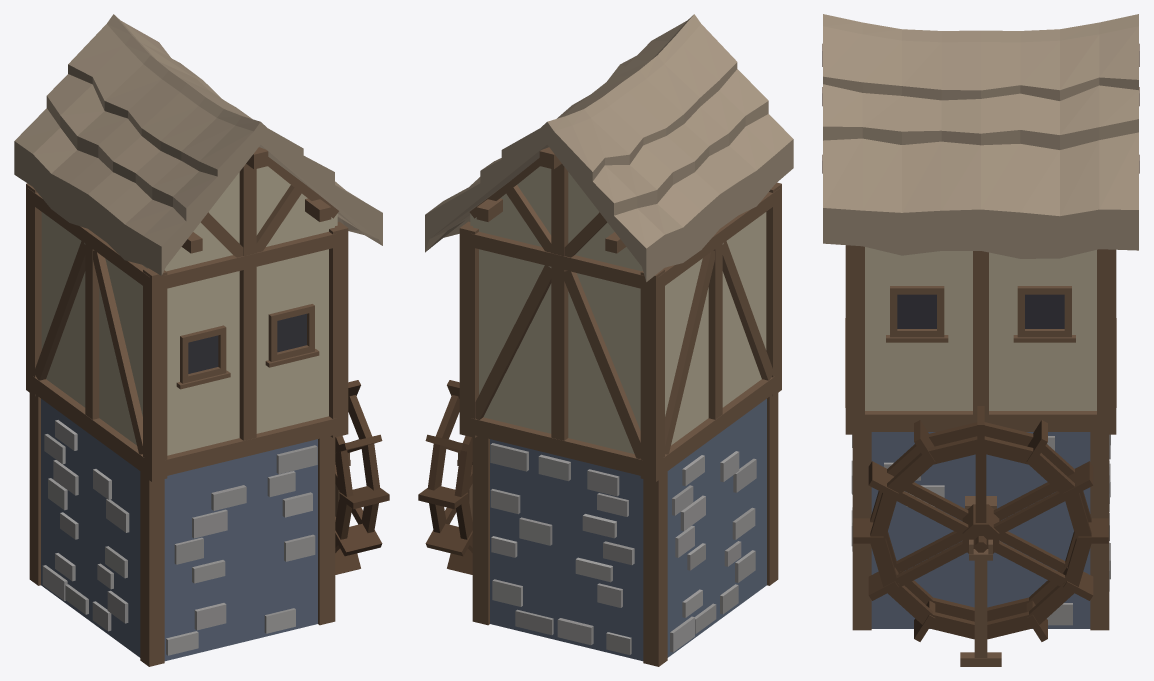
File: var_watermill.glb
The picture shows the model from 3 angles, left to right: view 1: azimuth 30°, elevation 25°; view 2: azimuth 150°, elevation 25°; view 3: azimuth 270°, elevation 25°; orthographic projection. The views are drawn at different scales.
Parts seen in each view (by area): view 1: mill-shell, wheel-mesh; view 2: mill-shell, wheel-mesh; view 3: mill-shell, wheel-mesh.
Part boxes in pixels (x1,y1,x2,y2): mill-shell: (14,14,382,666); wheel-mesh: (335,380,389,574); mill-shell: (425,14,793,666); wheel-mesh: (418,380,472,574); mill-shell: (822,14,1139,666); wheel-mesh: (853,406,1108,641).
Size of the model in its own units: 4 by 7.89 by 3.98.
